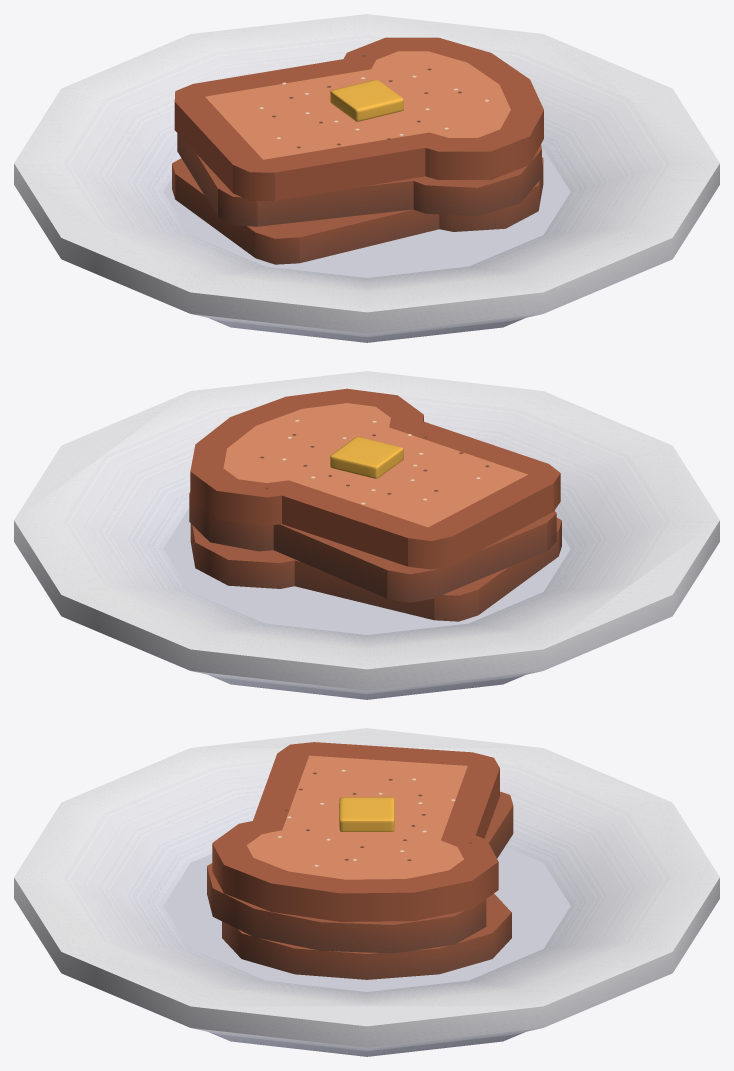
File: french_toast.glb
3 views of the same model, one above another, from view 1: azimuth 30°, elevation 25°; view 2: azimuth 150°, elevation 25°; view 3: azimuth 270°, elevation 25° (orthographic).
Parts seen in each view (by area): view 1: plate; view 2: plate; view 3: plate.
Boxes of the visible parts, x1,y1,x2,y2 form: plate: (14,14,719,342); plate: (14,371,719,699); plate: (14,728,719,1056).
Bounding box in the file's own units: 0.8918 × 0.1858 × 0.8918.
2 materials, 2 textured.
